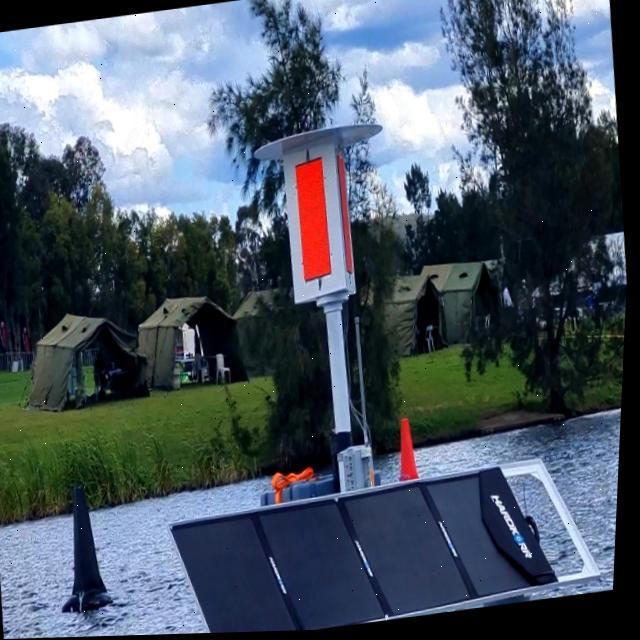led: (283, 153, 350, 293)
